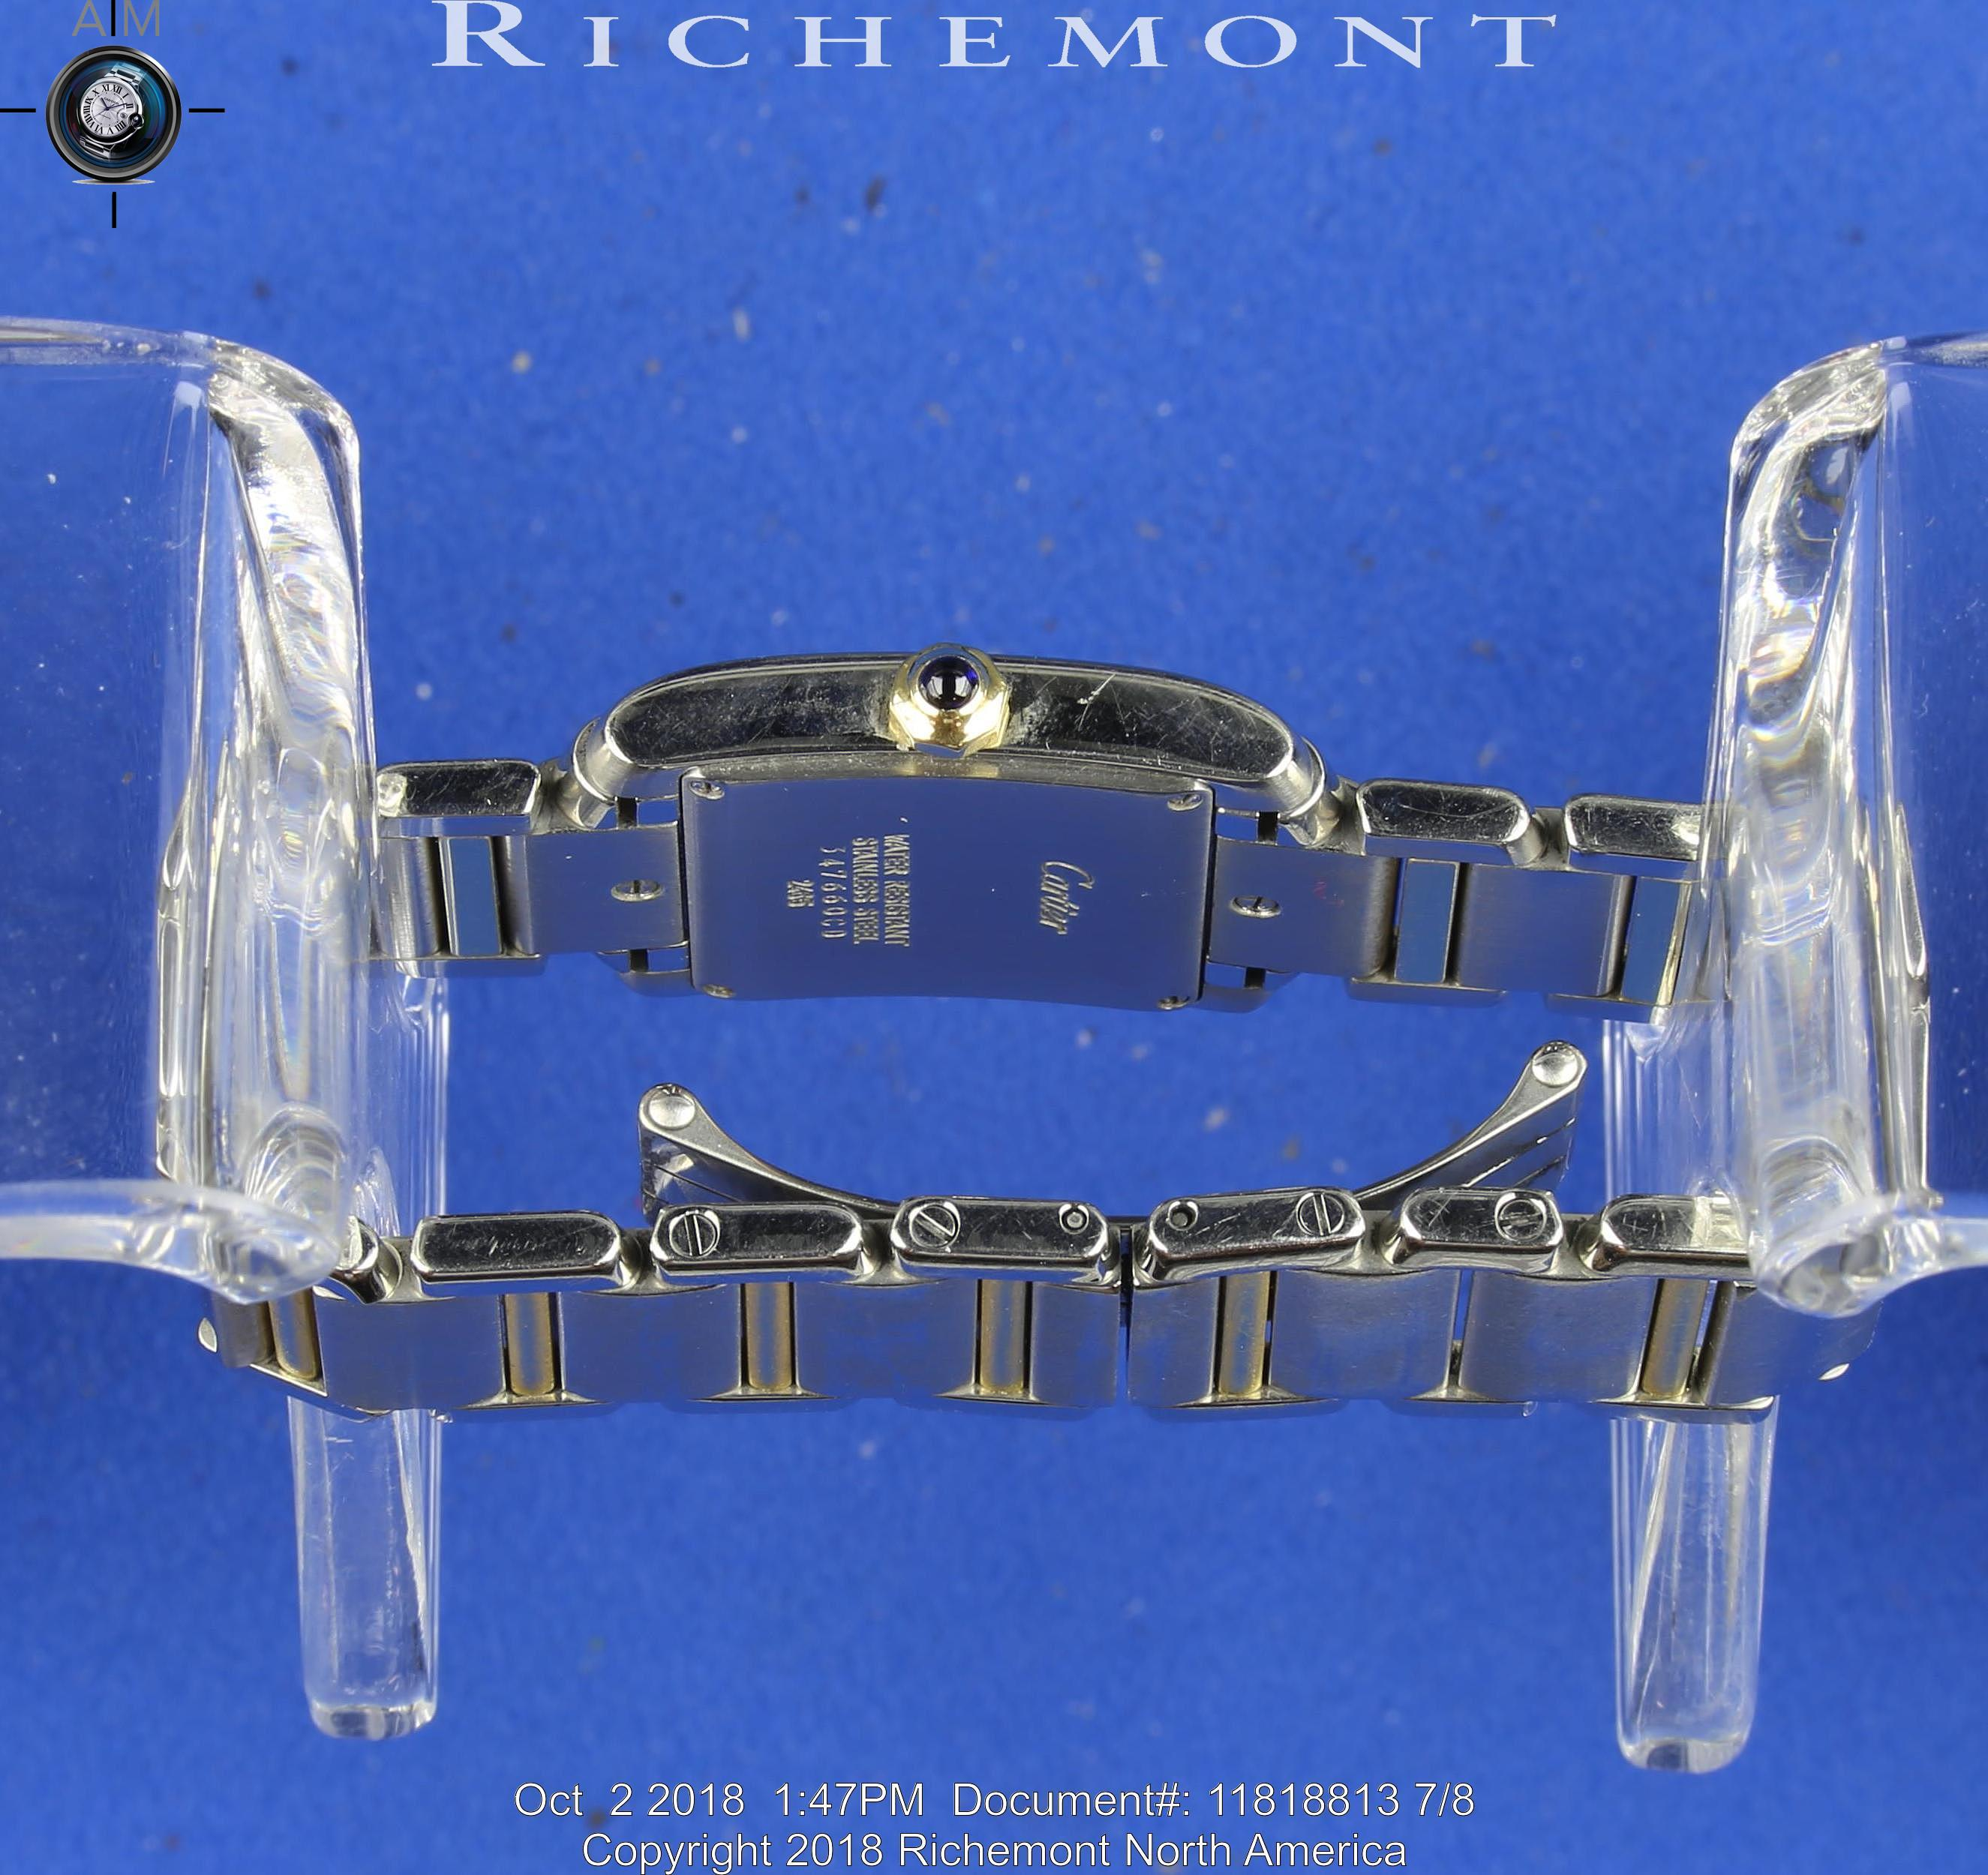watchback: (580, 684, 1311, 1059)
